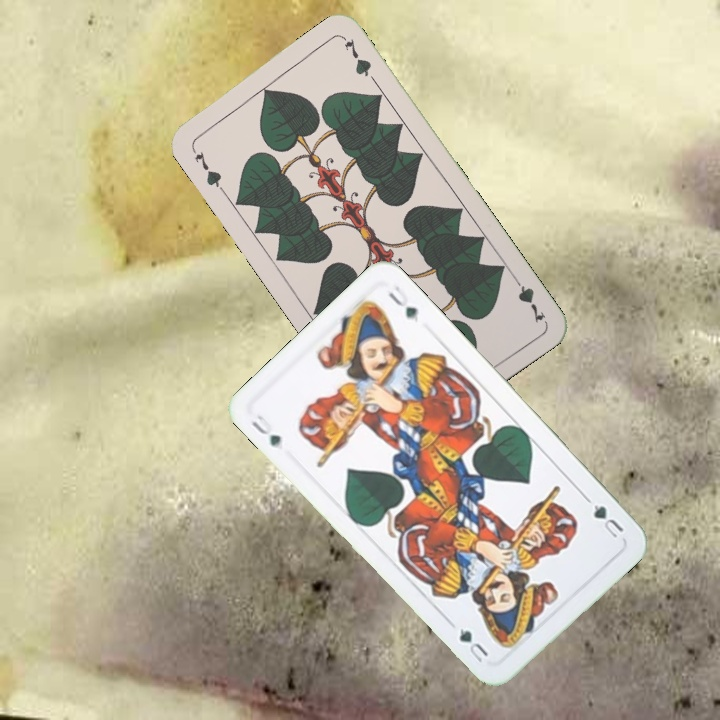G7: (508, 271, 549, 326), (187, 143, 227, 194)
GU: (589, 500, 627, 541), (247, 410, 284, 451)
